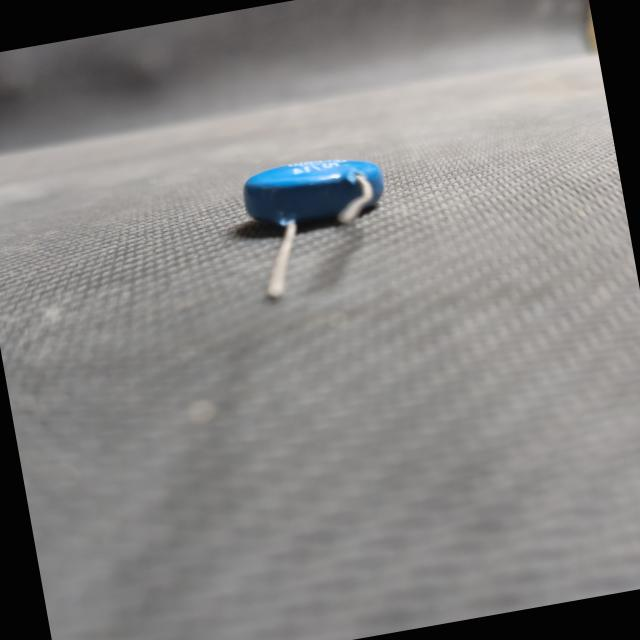capacitor: (201, 136, 415, 320)
